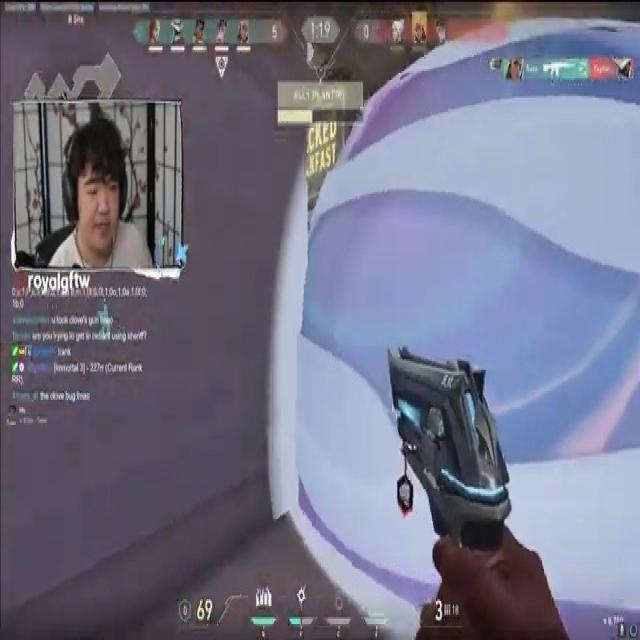smoke: (300, 22, 640, 635)
